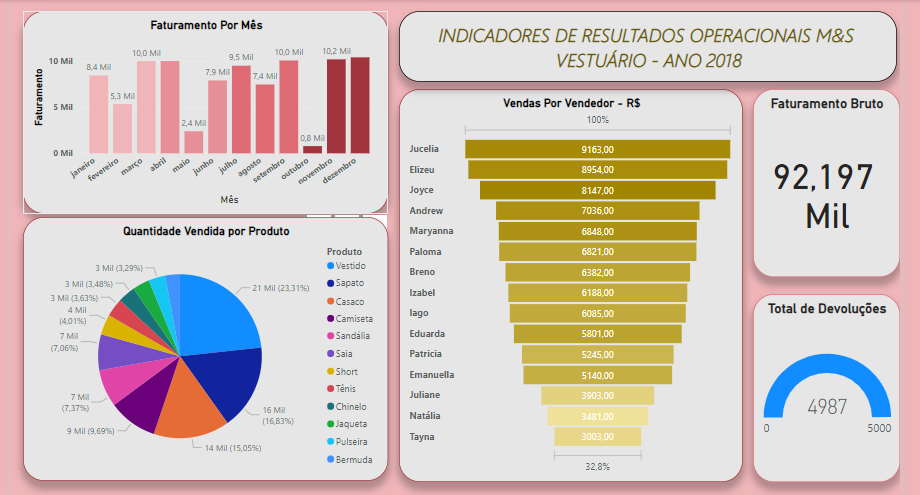

Layout of this report page (visuals, bound fields, positions):
{"tool":"powerbi","page":{"name":"Página 1","canvas":[1280,720],"ordinal":0},"visuals":[{"type":"clusteredColumnChart","title":"Faturamento Por Mês","fields":{"Category":["DadosProdutos.Data da Venda.Variation.Hierarquia de datas.Mês"],"Y":["Sum(DadosProdutos.Quantidade Vendida)"]},"box":[17,15.7,526.3,291.9],"z":0},{"type":"pieChart","title":"Quantidade Vendida por Produto","fields":{"Y":["Sum(DadosProdutos.Quantidade Vendida)"],"Category":["DadosProdutos.Produto"]},"box":[17,312.9,526.3,379.6],"z":1000},{"type":"funnel","title":"Vendas Por Vendedor - R$","fields":{"Category":["DadosProdutos.Nome"],"Y":["Sum(DadosProdutos.Quantidade Vendida)"]},"box":[558.8,128,495.5,565.7],"z":2000},{"type":"textbox","box":[558.7,15.8,717.1,102.2],"z":3000},{"type":"gauge","title":"Total de Devoluções","fields":{"Y":["Sum(DadosDevolução.Quantidade Devolvida)"]},"box":[1068.5,423.4,211.7,270.7],"z":4000},{"type":"card","title":"Faturamento Bruto","fields":{"Values":["Sum(DadosProdutos.Quantidade Vendida)"]},"box":[1068.5,128.2,211.7,270.7],"z":5000}]}

Visuals, with their boxes in screenshot pixels (x1, y1, x2, y2):
"Faturamento Por Mês" clusteredColumnChart: BBox(14, 6, 385, 212)
"Quantidade Vendida por Produto" pieChart: BBox(14, 216, 385, 483)
"Vendas Por Vendedor - R$" funnel: BBox(396, 85, 745, 484)
textbox: BBox(396, 6, 901, 78)
"Total de Devoluções" gauge: BBox(755, 293, 904, 484)
"Faturamento Bruto" card: BBox(755, 85, 904, 276)
